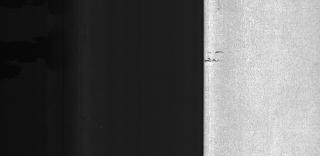scratches: (204, 47, 226, 65)
